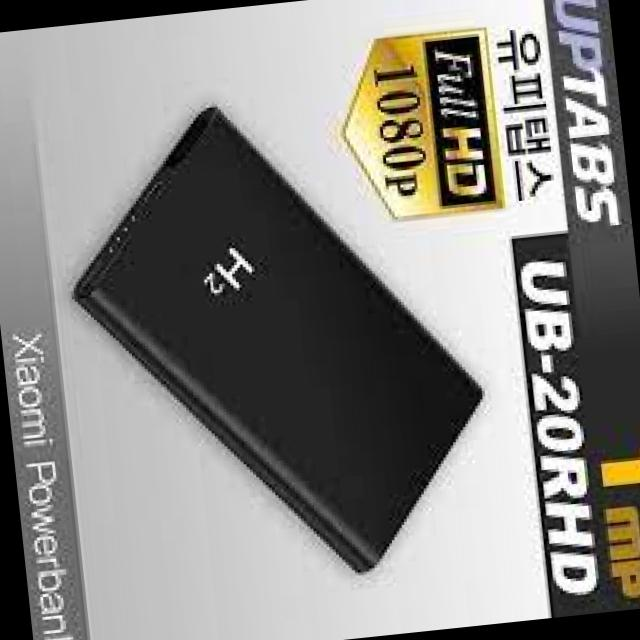power_bank: (52, 80, 501, 610)
